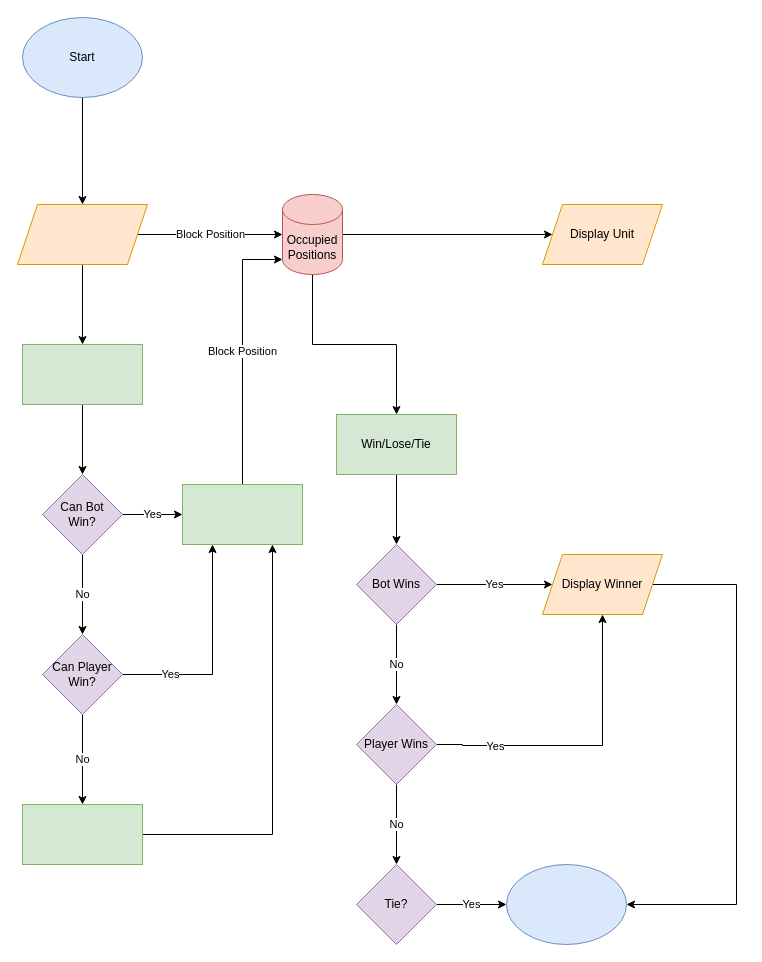
Some shapes in this 762 by 962 pixel diagram are drawn without their labels. Each missing label, with the box of its shape:
Best Move For The Bot: (22, 344, 142, 404)
Bot Makes A Move: (182, 484, 302, 544)
Next Optimal Position: (22, 804, 142, 864)
Player's Move: (16, 204, 148, 264)
Stop: (506, 864, 626, 944)
